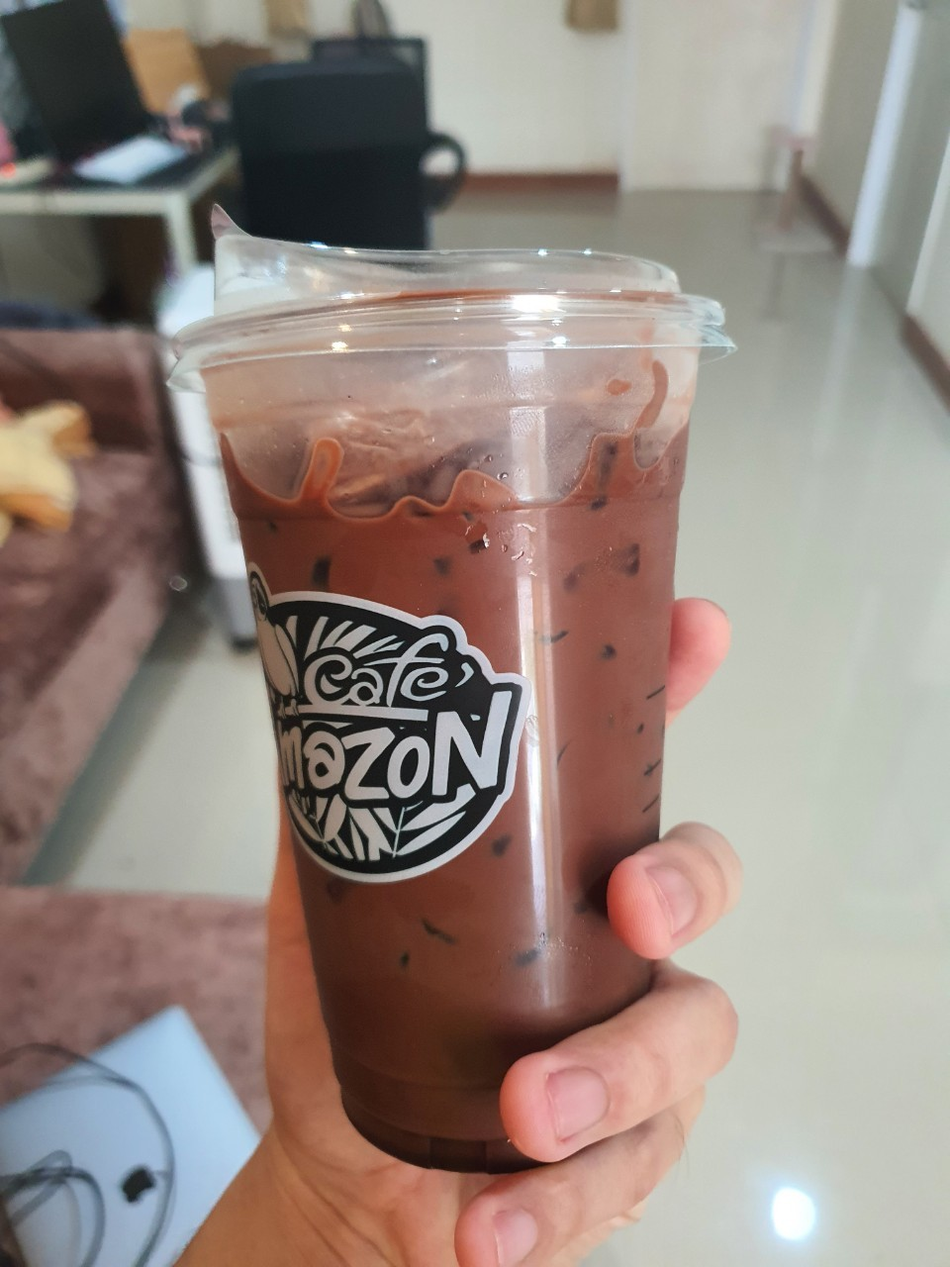plastic: (141, 187, 760, 1175)
